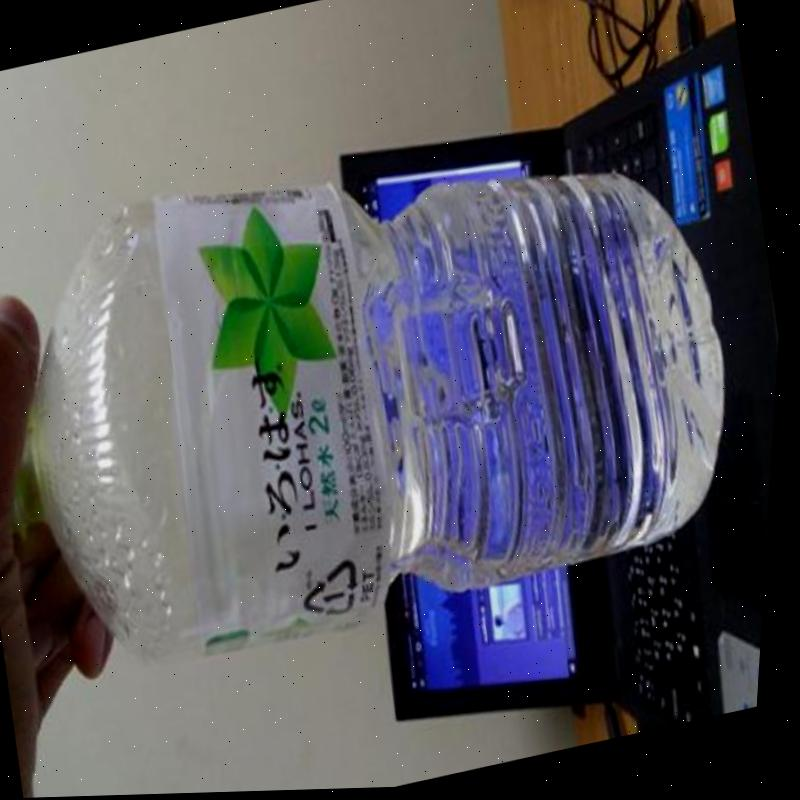botella: (0, 84, 780, 695)
